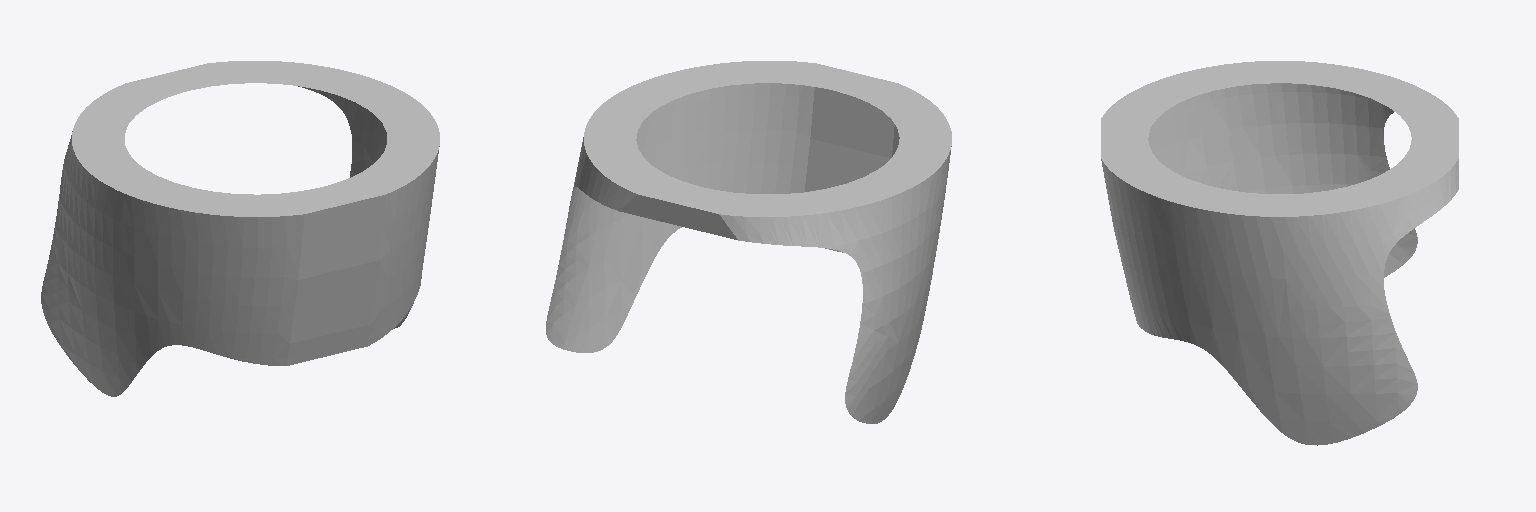
The model's file is SchulterL_B.obj.
The picture shows the model from 3 angles: view 1: azimuth 30°, elevation 25°; view 2: azimuth 150°, elevation 25°; view 3: azimuth 270°, elevation 25°; orthographic projection.
Visible parts, largest first — view 1: Stamm|Minimal-SchulterL_(Standard)|Schulter_links-1|Schulter_lin; view 2: Stamm|Minimal-SchulterL_(Standard)|Schulter_links-1|Schulter_lin; view 3: Stamm|Minimal-SchulterL_(Standard)|Schulter_links-1|Schulter_lin.
Boxes of the visible parts, box(x1,y1,x2,y2) form: Stamm|Minimal-SchulterL_(Standard)|Schulter_links-1|Schulter_lin: box(41, 61, 439, 396); Stamm|Minimal-SchulterL_(Standard)|Schulter_links-1|Schulter_lin: box(546, 61, 951, 423); Stamm|Minimal-SchulterL_(Standard)|Schulter_links-1|Schulter_lin: box(1101, 61, 1458, 445).
Size of the model in its own units: 0.118 by 0.0824 by 0.1141.